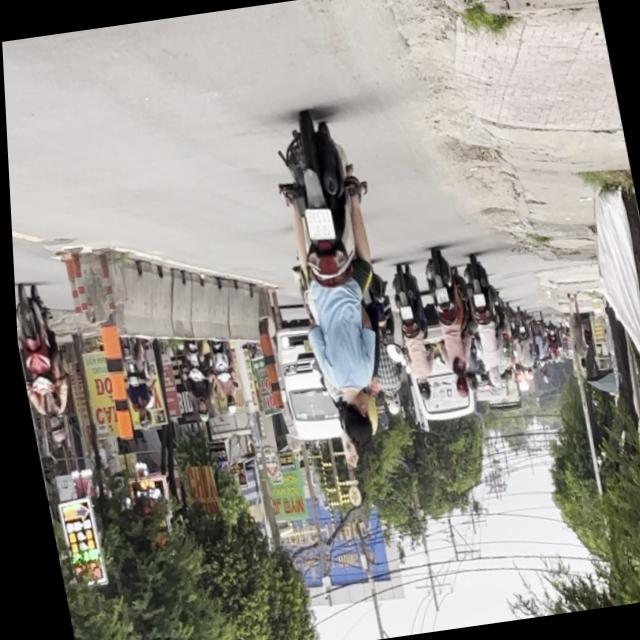licenseplate: (259, 108, 411, 456)
motorcyclist: (333, 391, 372, 448)
nohelmet: (302, 207, 334, 242)
